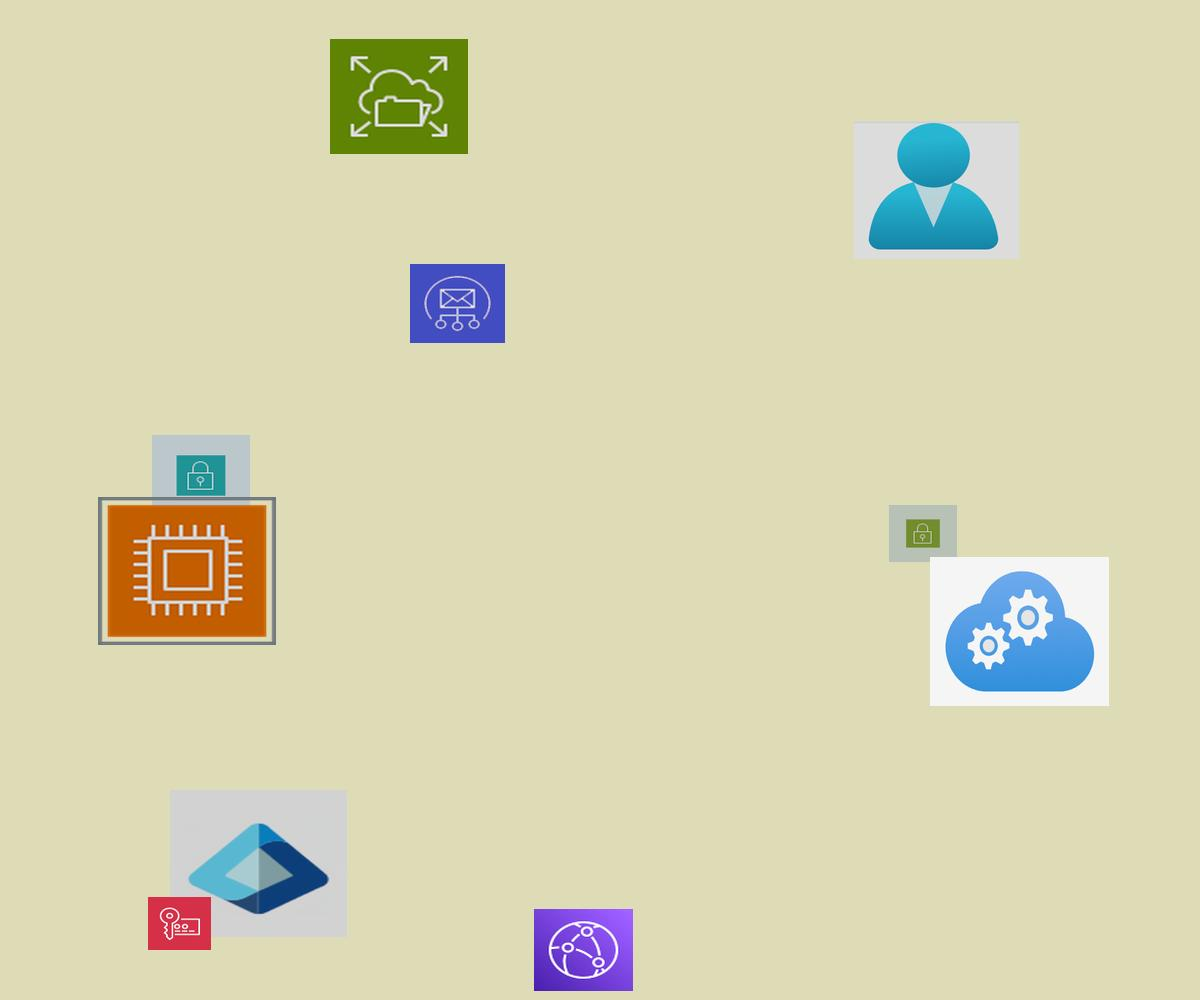AWS-Category_Compute: (98, 497, 276, 645)
AWS-CloudFront: (534, 909, 633, 991)
AWS-EFS: (330, 39, 468, 154)
AWS-Key-Management-Service: (148, 897, 211, 950)
AWS-Private-subnet: (152, 435, 250, 516)
AWS-Public-subnet: (889, 505, 957, 562)
AWS-Simple-Email-Service: (410, 264, 505, 343)
Azure_cloud_services: (930, 557, 1109, 706)
Azure_microsoft_entra: (170, 790, 347, 937)
Azure_users: (854, 121, 1019, 259)
